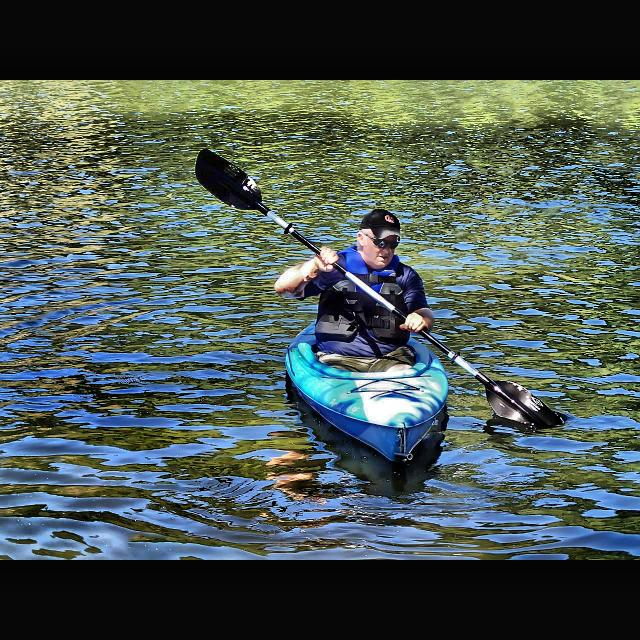kayak: (282, 308, 452, 466)
